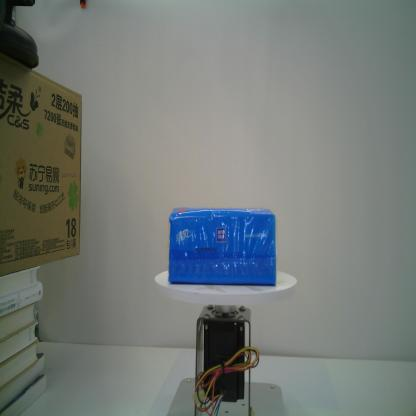Tissue: (167, 205, 277, 288)
